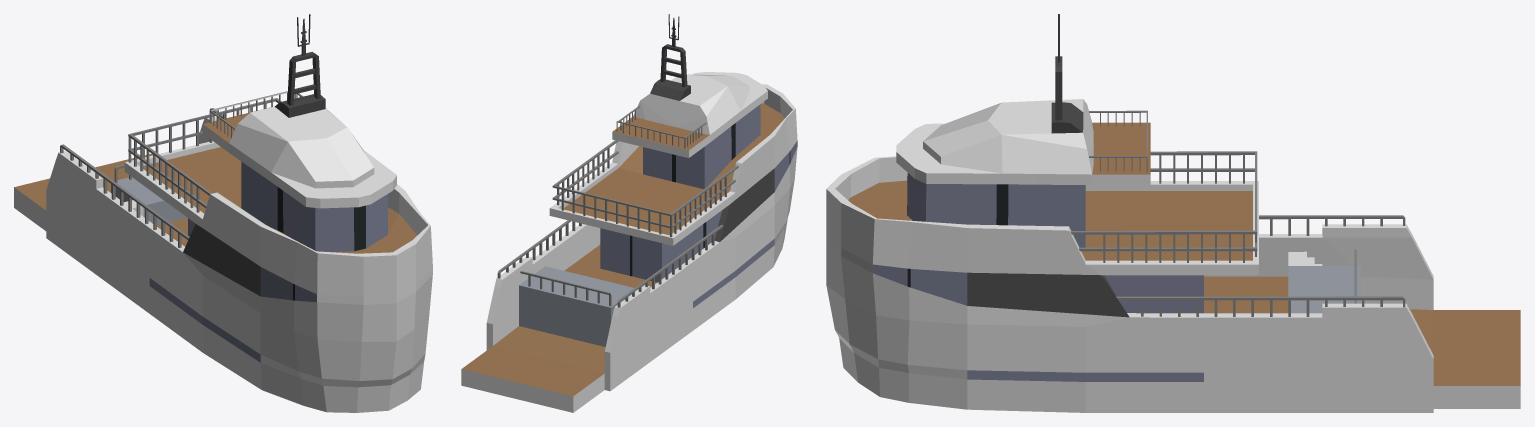
Rendered from Yacht_01.fbx.
3 views of the same model, side by side, from view 1: azimuth 30°, elevation 25°; view 2: azimuth 150°, elevation 25°; view 3: azimuth 270°, elevation 25° (orthographic). The views are drawn at different scales.
Visible parts, largest first — view 1: Yacht_01; view 2: Yacht_01; view 3: Yacht_01.
Part boxes in pixels (left/top/right/bottom): Yacht_01: left=14, top=14, right=432, bottom=412; Yacht_01: left=461, top=14, right=797, bottom=412; Yacht_01: left=826, top=14, right=1520, bottom=412.
Size of the model in its own units: 500 by 1004 by 1754.
